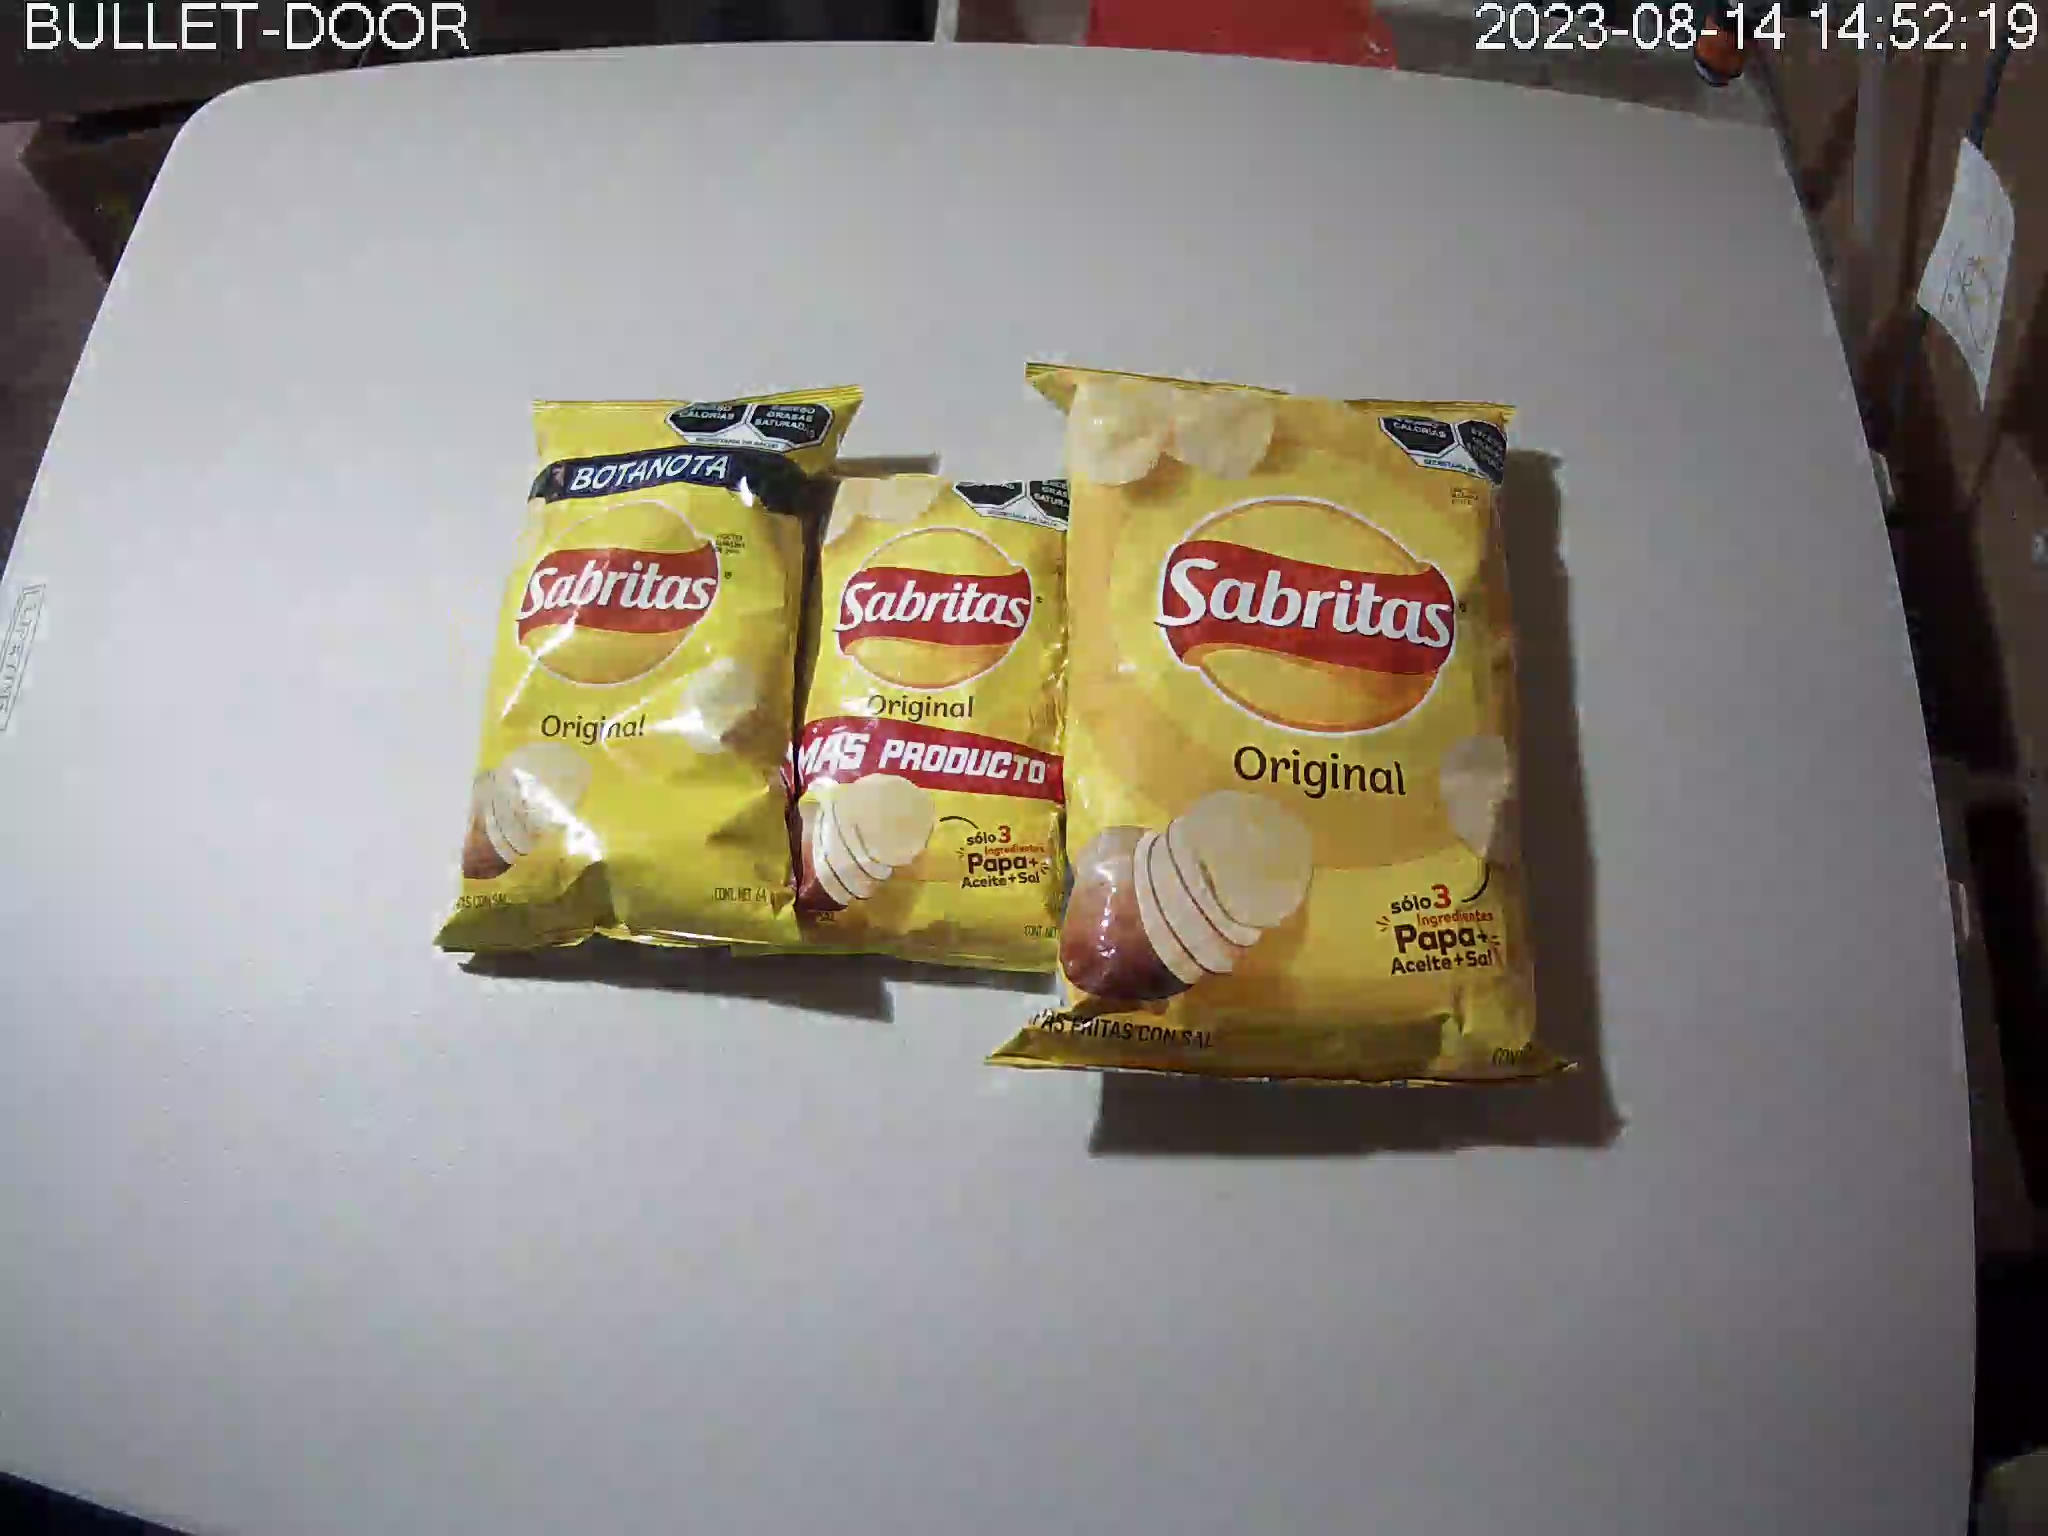Sabritas_160_F: (984, 361, 1584, 1094)
Sabritas_45_F: (734, 457, 1090, 976)
Sabritas_64_F: (432, 382, 864, 963)
